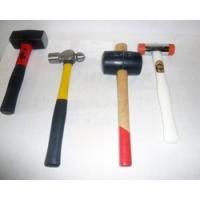hammer: (42, 46, 86, 168)
